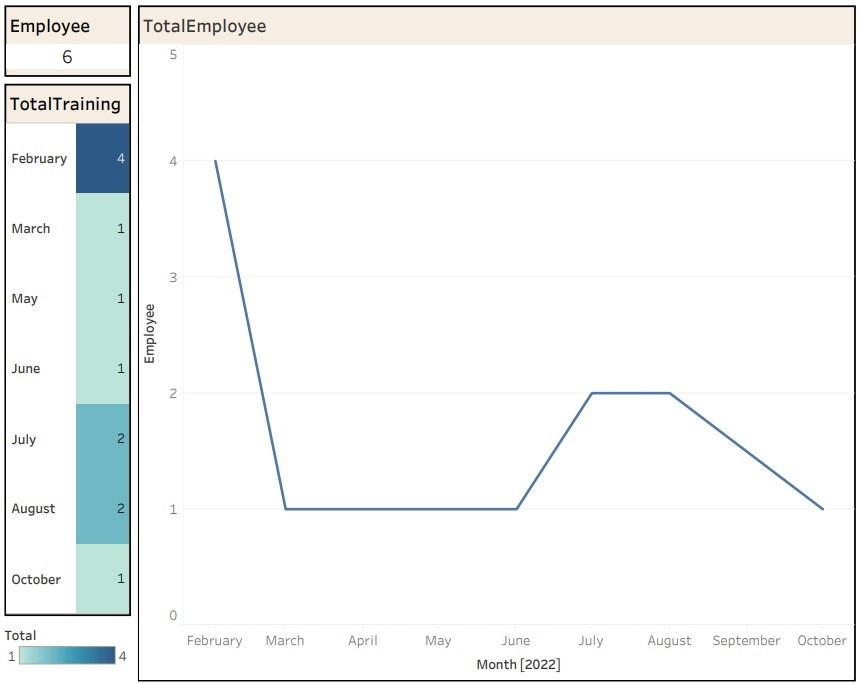

The dashboard page shown, as its layout file describes it:
{"tool":"tableau","page":{"name":"AnalyticsTrainHis","canvas":[1000,800],"ordinal":0},"visuals":[{"type":"worksheet","title":"Employee","mark":"Automatic","box":[8,8,153,90]},{"type":"worksheet","title":"TotalEmployee","mark":"Automatic","rows":["EmployeeId"],"cols":["DateComplete"],"box":[161,8,831,784]},{"type":"worksheet","title":"TotalTraining","mark":"Square","rows":["DateComplete"],"box":[8,98,153,619]},{"type":"legend","title":"TotalTraining","param":"[federated.0tzu3611cy07z21135sdy029se9n].[cnt:TrainingId:qk]","box":[8,717,153,75]}]}

Visuals, with their boxes in screenshot pixels (x1, y1, x2, y2), scaled from the page's 1000x800 canvas onto the 859x684 screenshot:
"Employee" worksheet: <bbox>7, 7, 138, 84</bbox>
"TotalEmployee" worksheet: <bbox>138, 7, 852, 677</bbox>
"TotalTraining" worksheet (Square marks): <bbox>7, 84, 138, 613</bbox>
"TotalTraining" legend: <bbox>7, 613, 138, 677</bbox>
